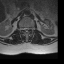CCS_normal: (25, 25, 27, 33)
LFS_normal: (29, 25, 30, 31)
LLS_normal: (27, 26, 29, 31)
RFS_normal: (22, 26, 23, 31)
RLS_normal: (23, 26, 25, 32)
